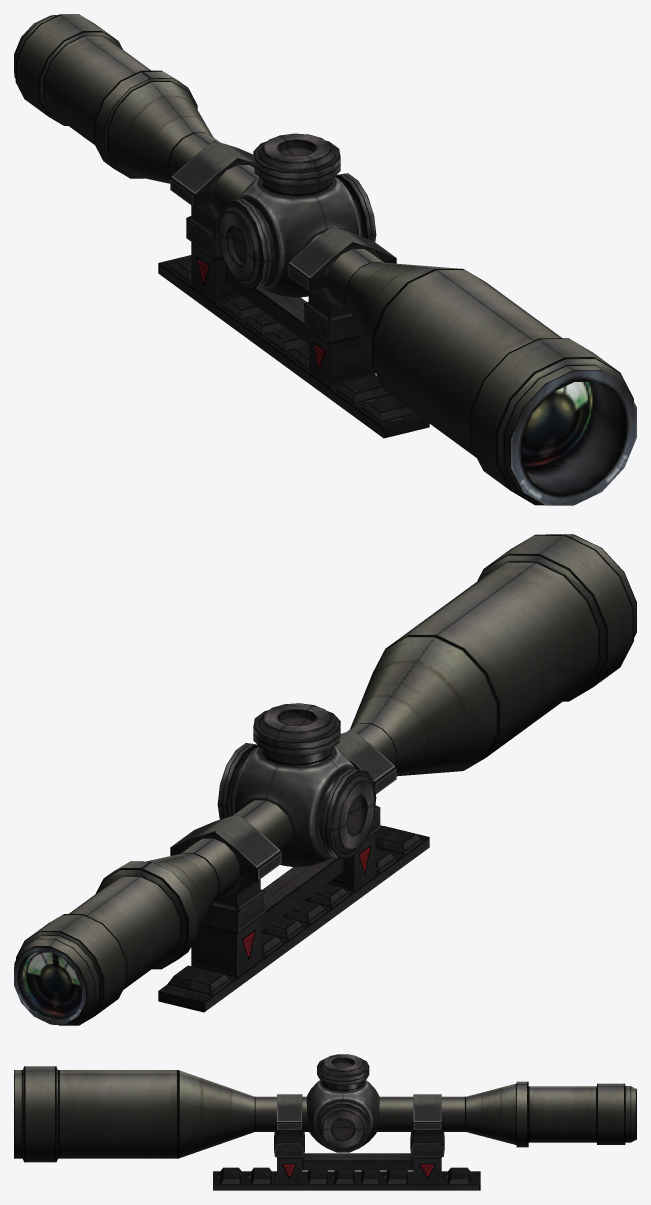
File: SniperRifle_Warfare_Scope_2.FBX
3 views of the same model, one above another, from view 1: azimuth 30°, elevation 25°; view 2: azimuth 150°, elevation 25°; view 3: azimuth 270°, elevation 25° (orthographic). The views are drawn at different scales.
Parts seen in each view (by area): view 1: mesh_scope; view 2: mesh_scope; view 3: mesh_scope.
Part boxes in pixels (<box>): mesh_scope: <box>14,14,636,505</box>; mesh_scope: <box>14,534,636,1025</box>; mesh_scope: <box>14,1054,636,1190</box>.
Size of the model in its own units: 0.0804 by 0.1149 by 0.5336.
